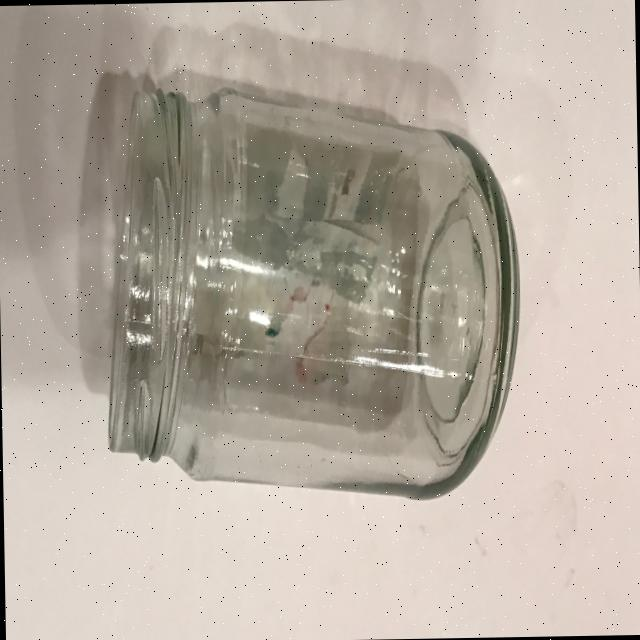glass: (100, 76, 524, 504)
